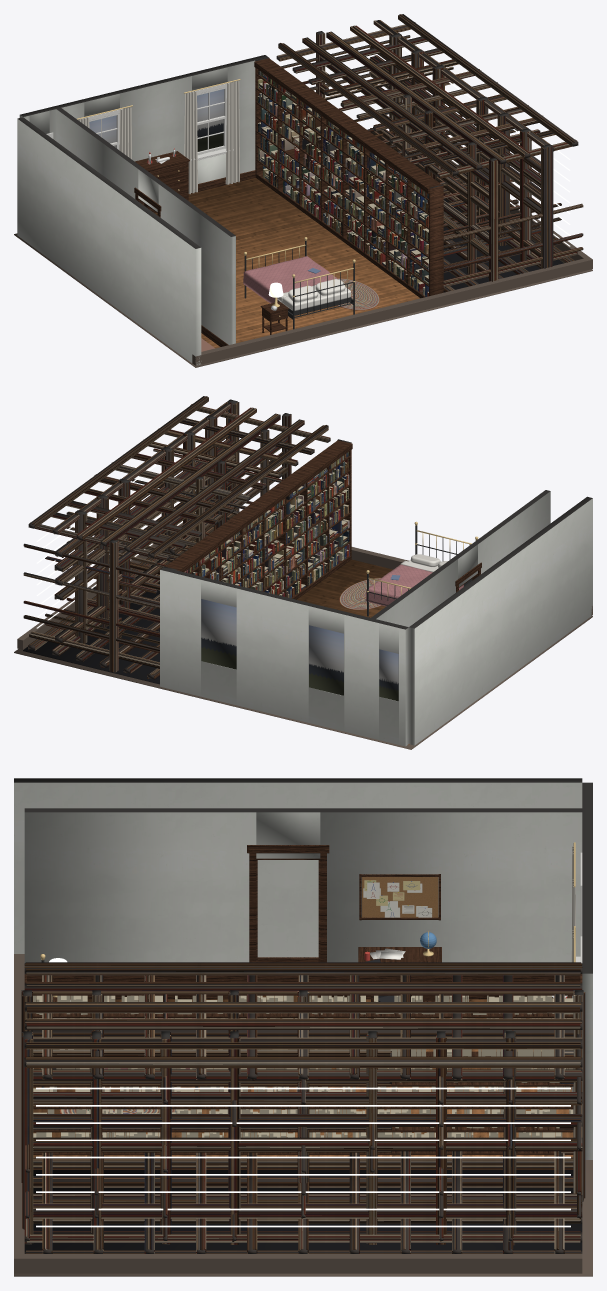
The model's file is room.glb.
The picture shows the model from 3 angles, top to bottom: view 1: azimuth 30°, elevation 25°; view 2: azimuth 150°, elevation 25°; view 3: azimuth 270°, elevation 25°; orthographic projection. The views are drawn at different scales.
Visible parts, largest first — view 1: arch_world_lines, left_wall_ext, books_shelved, floor_room, furn_dark_stain, arch_world_lines_dark, kerb_front_ext, left_doorwall_0, back_wall_6, furn_curtain_cotton, left_doorwall_2, quilt (+23 smaller); view 2: arch_world_lines, left_wall_ext, books_shelved, back_wall_6_ext, arch_world_lines_dark, furn_dark_stain, back_wall_9_ext, back_wall_3_ext, floor_void, left_doorwall_0, sky_1, sky_0 (+25 smaller); view 3: arch_world_lines, left_doorwall_0, left_doorwall_2, left_wall, arch_world_lines_dark, furn_dark_stain, light_slit, kerb_right_ext, floor_void, books_shelved, arch_dark_stain, floor_room (+34 smaller).
Part boxes in pixels (x1,y1,x2,y2): arch_world_lines: (277,14,583,283); left_wall_ext: (17,117,201,365); books_shelved: (257,70,428,296); floor_room: (154,178,419,348); furn_dark_stain: (135,58,441,334); arch_world_lines_dark: (276,14,583,283); kerb_front_ext: (192,257,592,365); left_doorwall_0: (158,184,235,344); back_wall_6: (120,76,191,161); furn_curtain_cotton: (78,81,239,194); left_doorwall_2: (56,109,138,198); quilt: (243,256,338,303); arch_world_lines: (23,396,330,651); left_wall_ext: (409,496,592,745); books_shelved: (184,452,349,598); back_wall_6_ext: (236,586,311,722); arch_world_lines_dark: (23,396,330,649); furn_dark_stain: (165,440,352,599); back_wall_9_ext: (160,567,203,696); back_wall_3_ext: (344,612,381,739); floor_void: (23,560,160,684); left_doorwall_0: (478,491,550,573); sky_1: (201,599,236,669); sky_0: (309,625,343,695); arch_world_lines: (24,962,582,1241); left_doorwall_0: (24,812,256,963); left_doorwall_2: (320,812,582,962); left_wall: (14,782,582,957); arch_world_lines_dark: (24,965,582,1240); furn_dark_stain: (26,874,580,1154); light_slit: (36,1087,570,1227); kerb_right_ext: (24,1254,582,1273); floor_void: (24,1170,582,1250); books_shelved: (33,995,573,1137); arch_dark_stain: (36,845,527,999); floor_room: (33,995,573,1157).
Bounding box in the file's own units: 9.6 × 3.05 × 7.6.
Materials: 31 (11 with a texture image).
